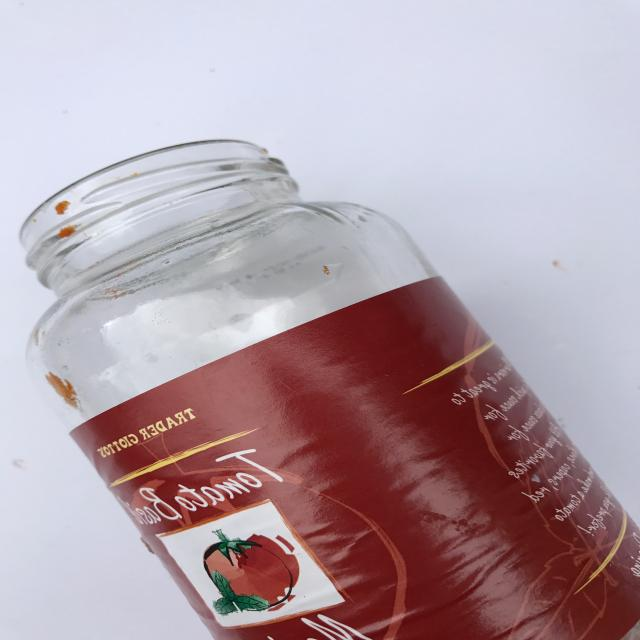glass: (30, 136, 640, 640)
